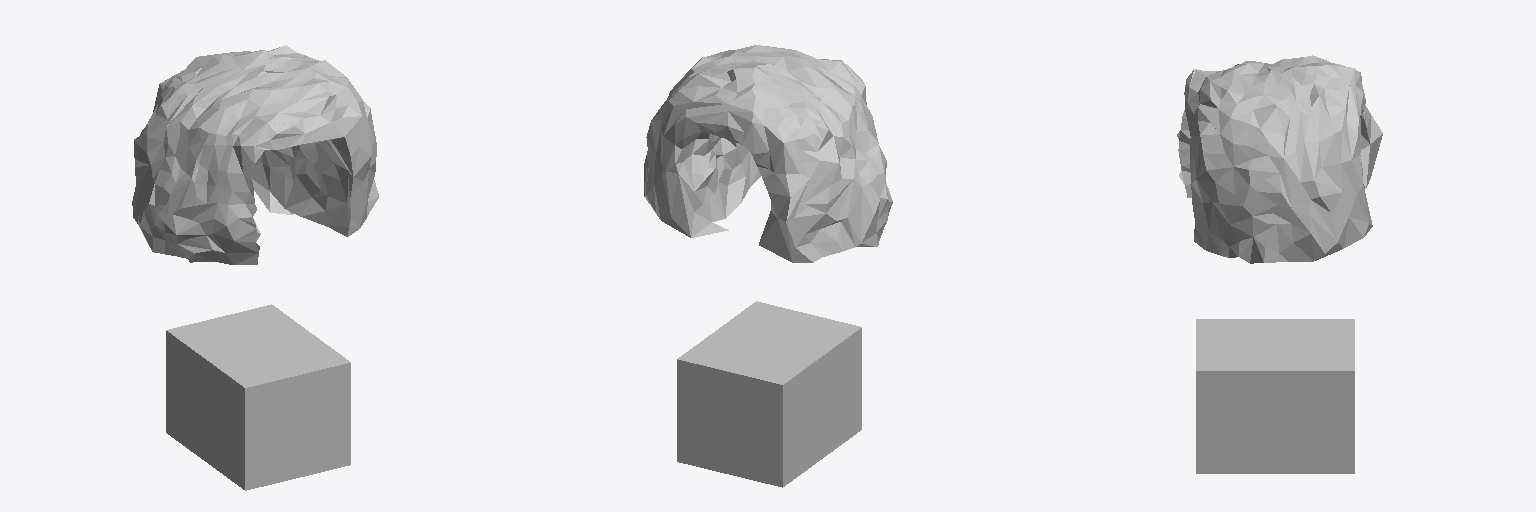
The model's file is cave.obj.
The picture shows the model from 3 angles: view 1: azimuth 30°, elevation 25°; view 2: azimuth 150°, elevation 25°; view 3: azimuth 270°, elevation 25°; orthographic projection.
Visible parts, largest first — view 1: Torus.003, Cube; view 2: Torus.003, Cube; view 3: Torus.003, Cube.
Part boxes in pixels (bbox=[...]): Torus.003: bbox=[132, 45, 378, 264]; Cube: bbox=[166, 304, 350, 490]; Torus.003: bbox=[644, 45, 892, 262]; Cube: bbox=[677, 301, 861, 487]; Torus.003: bbox=[1177, 55, 1382, 263]; Cube: bbox=[1196, 319, 1354, 473].
Size of the model in its own units: 22.36 by 37.31 by 18.23.